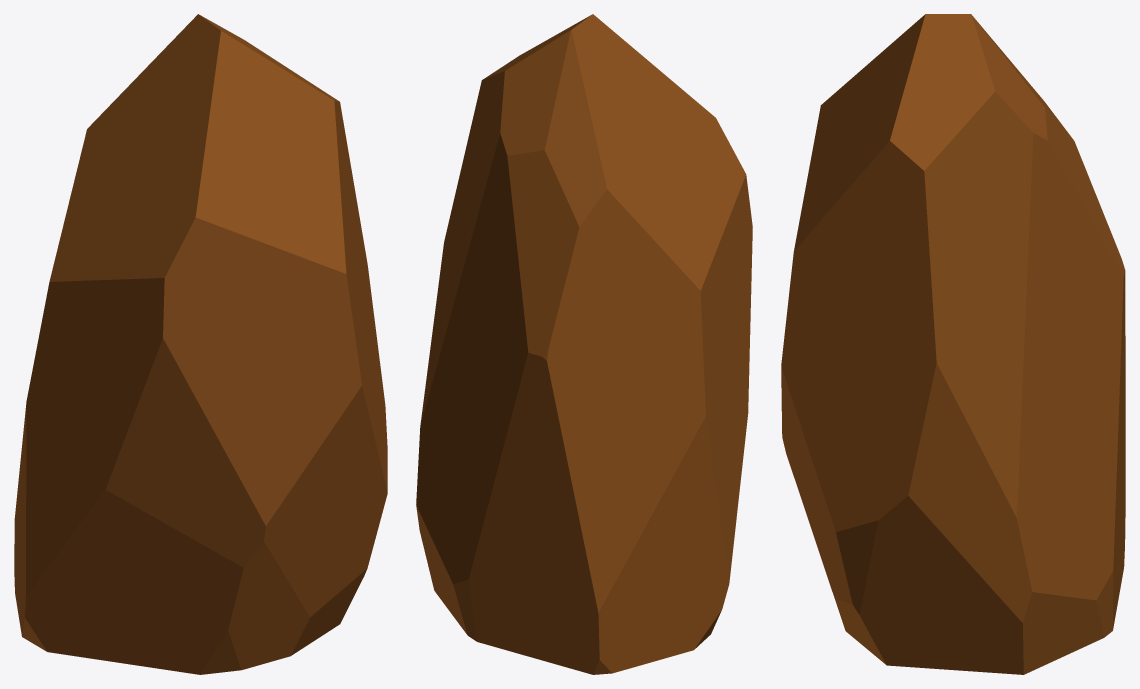
Rendered from HardRock_48.fbx.
3 views of the same model, side by side, from view 1: azimuth 30°, elevation 25°; view 2: azimuth 150°, elevation 25°; view 3: azimuth 270°, elevation 25° (orthographic). The views are drawn at different scales.
Parts seen in each view (by area): view 1: HardRock_48; view 2: HardRock_48; view 3: HardRock_48.
Boxes of the visible parts, x1,y1,x2,y2 form: HardRock_48: [14, 14, 387, 674]; HardRock_48: [416, 14, 752, 674]; HardRock_48: [781, 14, 1125, 674].
Bounding box in the file's own units: 70.67 × 125 × 64.87.
